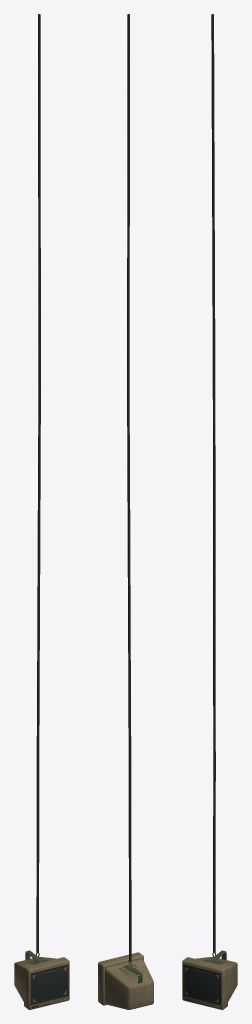
Rendered from crt.glb.
3 renders of one model, left to right at view 1: azimuth 30°, elevation 25°; view 2: azimuth 210°, elevation 25°; view 3: azimuth 330°, elevation 25°, orthographic.
Visible parts, largest first — view 1: CRT_Hanger, CRT_Casing, CRT_Screen, CRT_Bezel; view 2: CRT_Hanger, CRT_Casing; view 3: CRT_Hanger, CRT_Casing, CRT_Screen, CRT_Bezel.
Part boxes in pixels (box(x1,y1,x2,y2)): CRT_Hanger: box(25, 14, 43, 962); CRT_Casing: box(14, 957, 69, 1009); CRT_Screen: box(33, 968, 66, 1001); CRT_Bezel: box(30, 964, 68, 1004); CRT_Hanger: box(124, 14, 142, 983); CRT_Casing: box(98, 952, 153, 1009); CRT_Hanger: box(208, 14, 226, 962); CRT_Casing: box(182, 957, 237, 1009); CRT_Screen: box(185, 968, 218, 1001); CRT_Bezel: box(183, 964, 221, 1004).
Size of the model in its own units: 0.46 by 10.42 by 0.468.
Materials: 5 (3 with a texture image).
